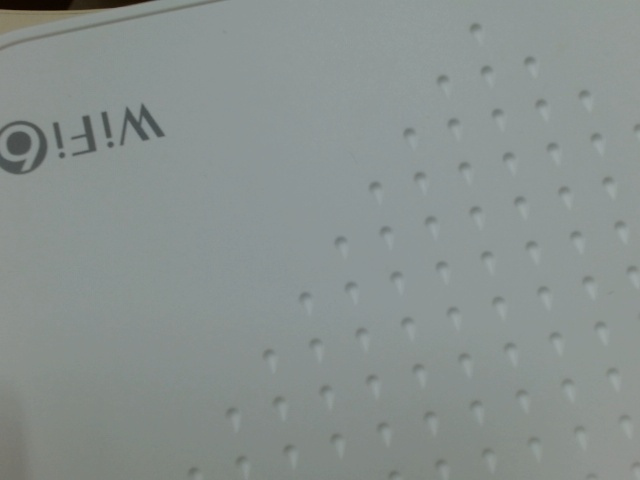AK_ZTEWIFI6: (1, 94, 168, 181)
